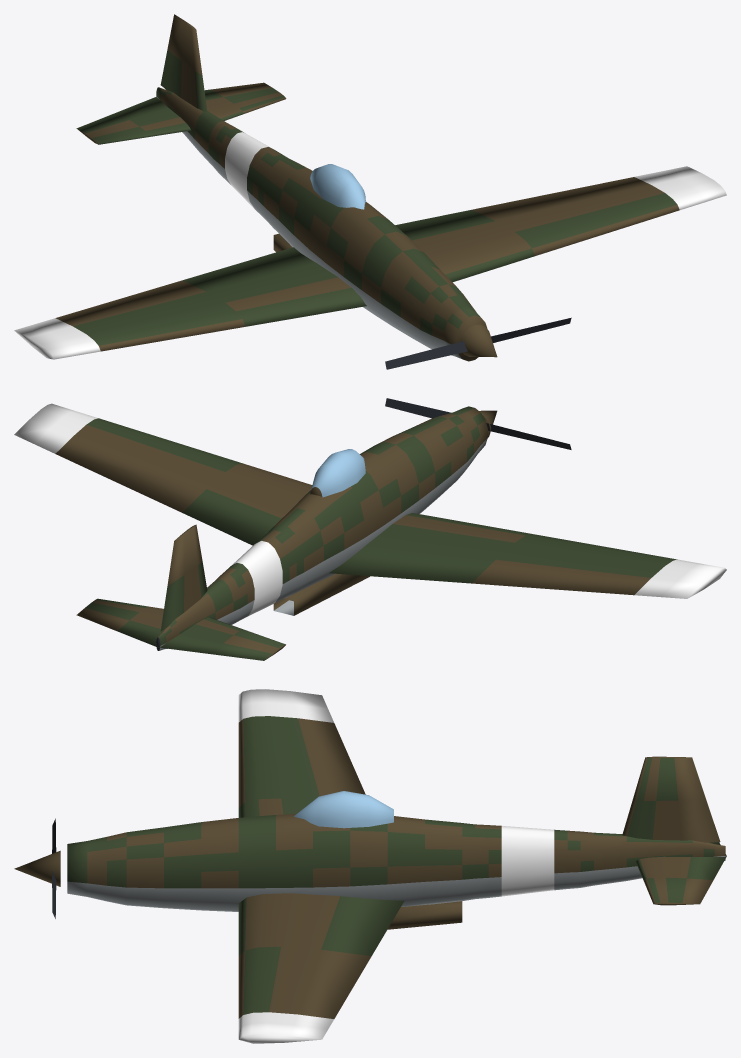
Rendered from hurricane_mk1.glb.
The picture shows the model from 3 angles, top to bottom: view 1: azimuth 30°, elevation 25°; view 2: azimuth 150°, elevation 25°; view 3: azimuth 270°, elevation 25°; orthographic projection. The views are drawn at different scales.
Parts seen in each view (by area): view 1: body, prop; view 2: body, prop; view 3: body, prop.
Part boxes in pixels (x1,y1,x2,y2): body: (14,14,726,361); prop: (385,317,571,369); body: (14,403,726,660); prop: (385,398,571,449); body: (67,689,726,1043); prop: (14,818,60,918).
Size of the model in its own units: 12.19 by 2.81 by 10.66.
